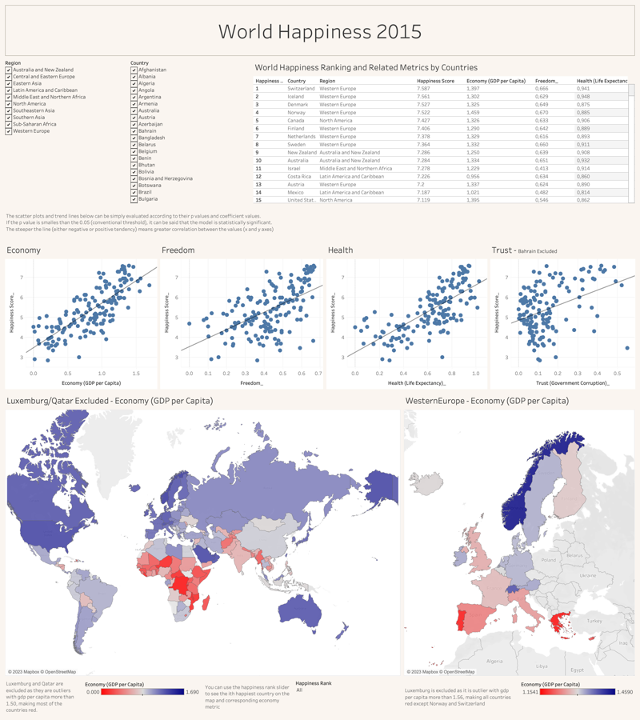

This screenshot's page, from the dashboard's own definition file:
{"tool":"tableau","page":{"name":"World Happiness 2015","canvas":[1600,1800],"ordinal":0},"visuals":[{"type":"title","box":[8,8,1584,135]},{"type":"filter","title":"Luxemburg/Qatar Excluded","param":"[federated.14wji1409aimch1a8movs18j3nlh].[none:Region:nk]","box":[8,143,314,369]},{"type":"filter","title":"Luxemburg/Qatar Excluded","param":"[federated.14wji1409aimch1a8movs18j3nlh].[none:Country:nk]","box":[322,143,307.2,369]},{"type":"worksheet","title":"Sheet 10","mark":"Automatic","rows":["Happiness Rank","Country","Region","Happiness Score","Economy (GDP per Capita)","Freedom (copy)_609182264185524226","Health (Life Expectancy) (copy)_609182264186388483"],"box":[629.2,143,962.8,369]},{"type":"text","box":[8,512,1584,88]},{"type":"worksheet","title":"Economy","mark":"Circle","rows":["Happiness Score (copy)_609182264184573953"],"cols":["Economy (GDP per Capita)"],"box":[8,600,388.2,377]},{"type":"worksheet","title":"Freedom","mark":"Circle","rows":["Happiness Score (copy)_609182264184573953"],"cols":["Freedom (copy)_609182264185524226"],"box":[396.2,600,415.4,377]},{"type":"worksheet","title":"Health","mark":"Circle","rows":["Happiness Score (copy)_609182264184573953"],"cols":["Health (Life Expectancy) (copy)_609182264186388483"],"box":[811.6,600,410.2,377]},{"type":"worksheet","title":"Trust","mark":"Circle","rows":["Happiness Score (copy)_609182264184573953"],"cols":["Trust (Government Corruption) (copy)_609182264186585092"],"box":[1221.9,600,370.1,377]},{"type":"worksheet","title":"Luxemburg/Qatar Excluded","mark":"Multipolygon","box":[8,977,997.7,718]},{"type":"worksheet","title":"WesternEurope","mark":"Multipolygon","box":[1005.7,977,586.3,718]},{"type":"text","box":[8,1695,200.2,97]},{"type":"legend","title":"Luxemburg/Qatar Excluded","param":"[federated.14wji1409aimch1a8movs18j3nlh].[attr:Economy (GDP per Capita) (copy)_6","box":[208.2,1695,298.1,97]},{"type":"text","box":[506.3,1695,229,97]},{"type":"filter","title":"Luxemburg/Qatar Excluded","param":"[federated.14wji1409aimch1a8movs18j3nlh].[none:Happiness Rank:nk]","box":[735.3,1695,229,97]},{"type":"blank","box":[964.3,1695,41.4,97]},{"type":"text","box":[1005.7,1695,293.1,97]},{"type":"legend","title":"WesternEurope","param":"[federated.14wji1409aimch1a8movs18j3nlh].[sum:Economy (GDP per Capita) (copy)_60","box":[1298.8,1695,293.2,97]}]}

Visuals, with their boxes in screenshot pixels (x1, y1, x2, y2), scaled from the page's 1600x1800 canvas onto the 640x720 screenshot:
title: rect(3, 3, 637, 57)
"Luxemburg/Qatar Excluded" filter: rect(3, 57, 129, 205)
"Luxemburg/Qatar Excluded" filter: rect(129, 57, 252, 205)
"Sheet 10" worksheet: rect(252, 57, 637, 205)
text: rect(3, 205, 637, 240)
"Economy" worksheet (Circle marks): rect(3, 240, 158, 391)
"Freedom" worksheet (Circle marks): rect(158, 240, 325, 391)
"Health" worksheet (Circle marks): rect(325, 240, 489, 391)
"Trust" worksheet (Circle marks): rect(489, 240, 637, 391)
"Luxemburg/Qatar Excluded" worksheet (Multipolygon marks): rect(3, 391, 402, 678)
"WesternEurope" worksheet (Multipolygon marks): rect(402, 391, 637, 678)
text: rect(3, 678, 83, 717)
"Luxemburg/Qatar Excluded" legend: rect(83, 678, 203, 717)
text: rect(203, 678, 294, 717)
"Luxemburg/Qatar Excluded" filter: rect(294, 678, 386, 717)
blank: rect(386, 678, 402, 717)
text: rect(402, 678, 520, 717)
"WesternEurope" legend: rect(520, 678, 637, 717)
